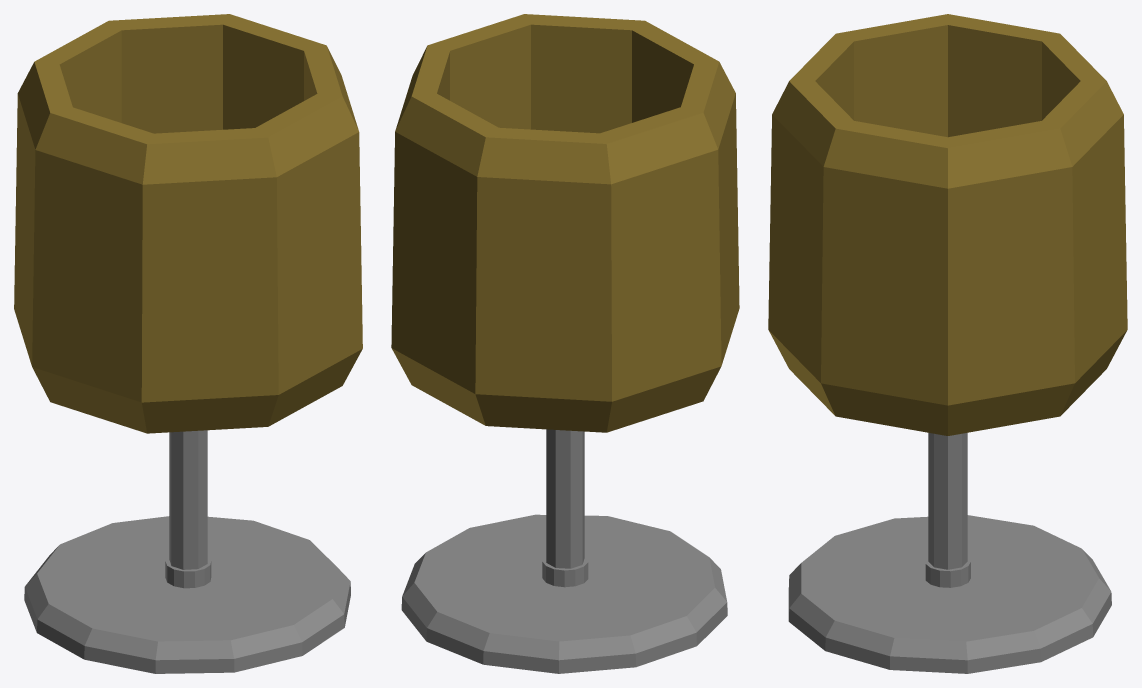
Rendered from small_lamp.fbx.
3 renders of one model, left to right at view 1: azimuth 30°, elevation 25°; view 2: azimuth 150°, elevation 25°; view 3: azimuth 270°, elevation 25°, orthographic.
Visible parts, largest first — view 1: Lamp C; view 2: Lamp C; view 3: Lamp C.
Boxes of the visible parts, x1=… form: Lamp C: x1=14, y1=14, x2=362, y2=673; Lamp C: x1=391, y1=14, x2=739, y2=673; Lamp C: x1=768, y1=14, x2=1127, y2=673.
Bounding box in the file's own units: 160 × 258 × 160.
